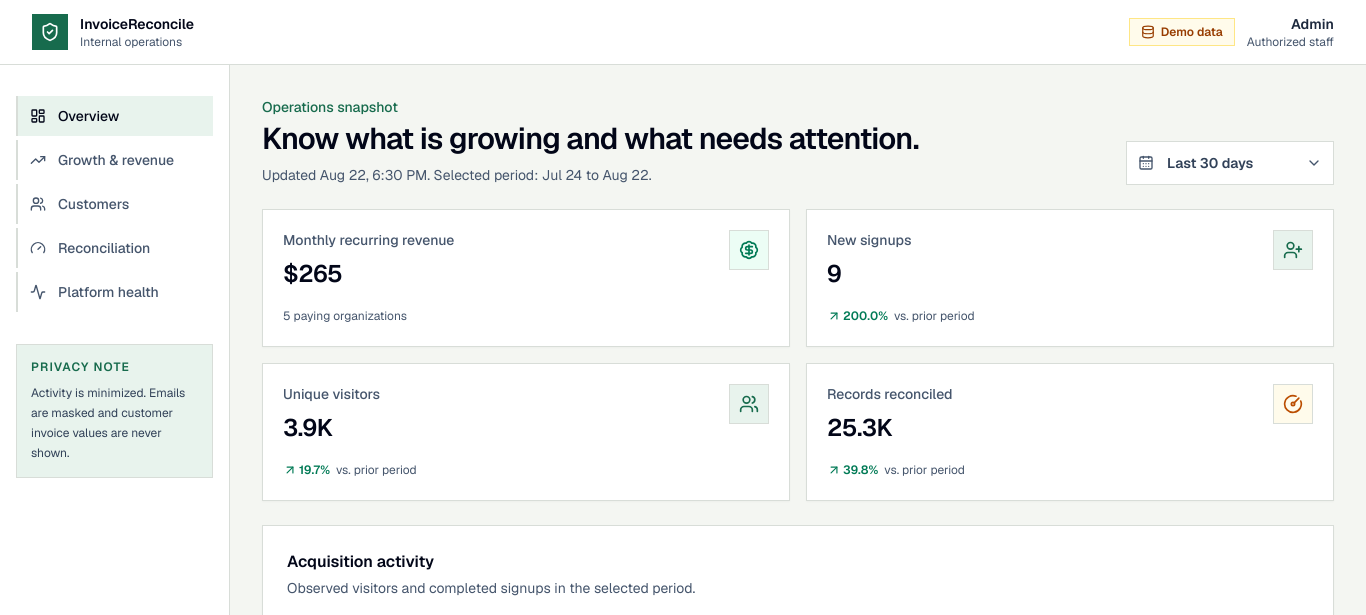
Test: AdminDashboard › applies date, status, and search filters to the signup history
The width and height of the screenshot is (1366, 615).
Select "Last 7 days" in the dropdown named "Dashboard date range" at (1230, 163), box [1126, 141, 1334, 185]
(page scrolled)
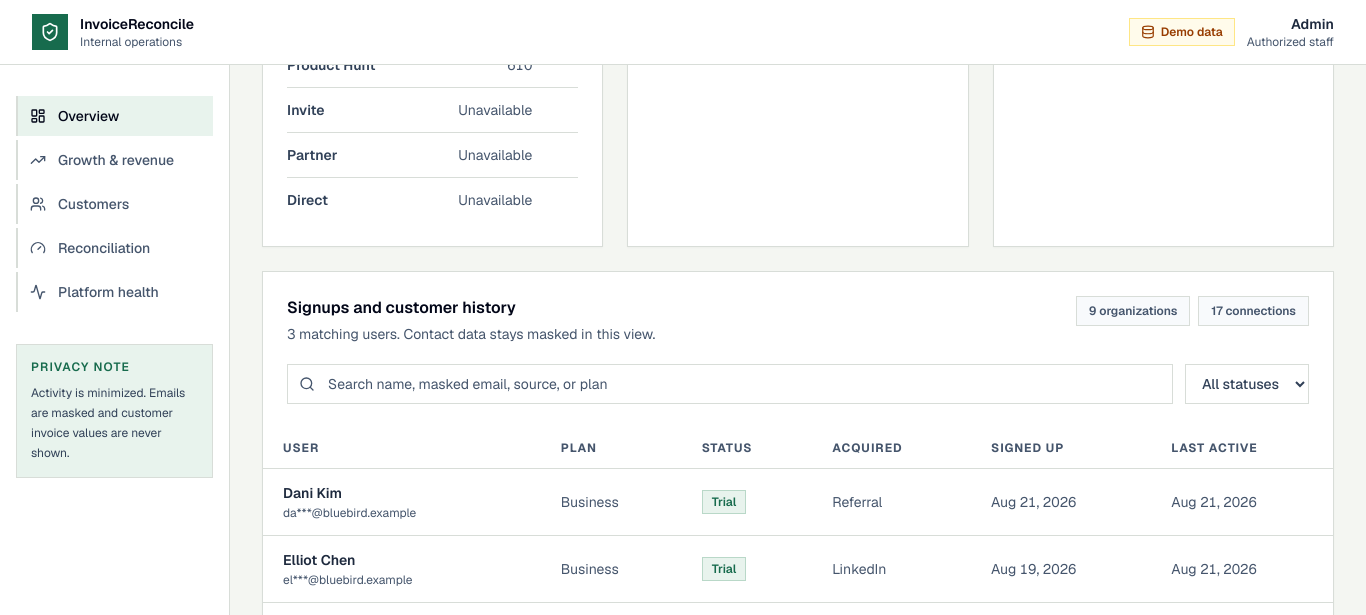
Select "Trial" in the dropdown named "Filter signups by subscription status" at (1247, 384), box [1185, 364, 1309, 404]
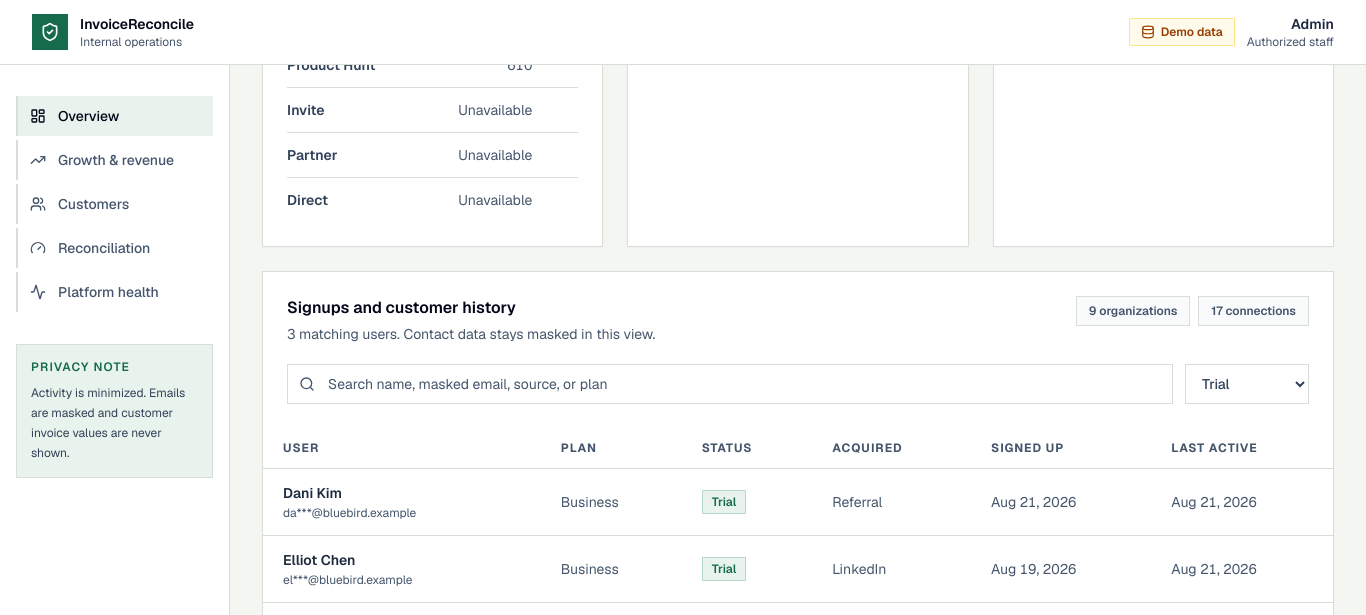
Type "Dani" into the field named "Search signups" at (730, 384), box [287, 364, 1173, 404]
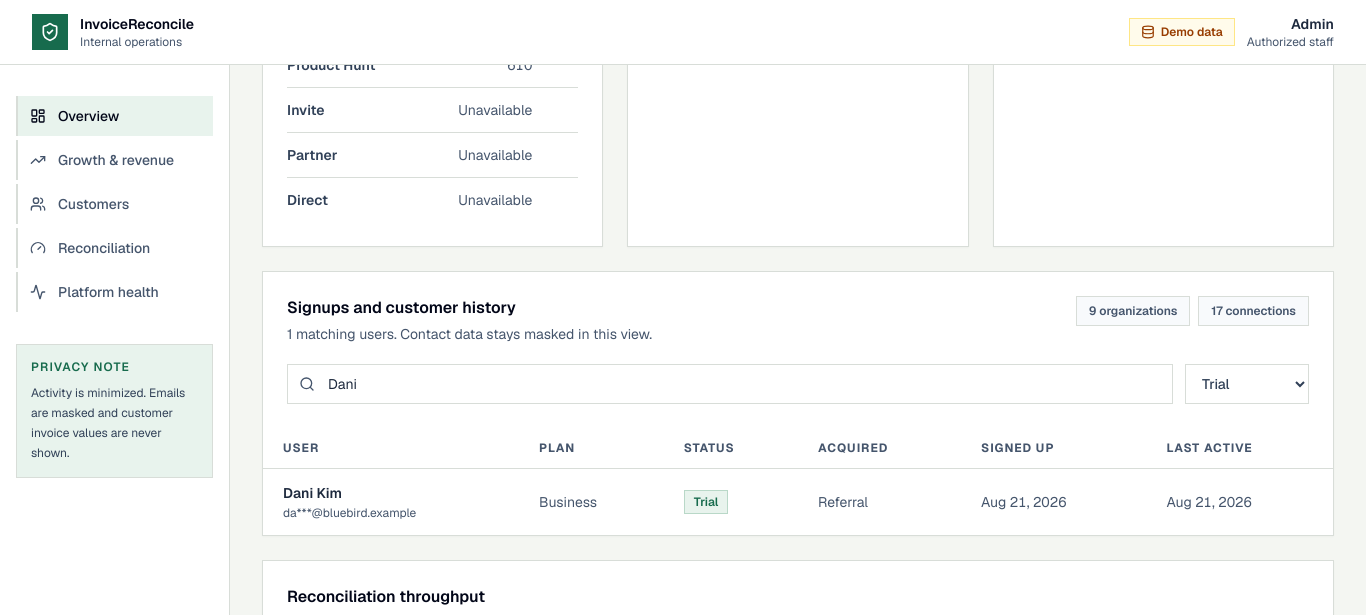
Check: the element "Signups and customer history" is shown, box [262, 271, 1334, 536]
Check: the text "Elliot Chen" is gone
